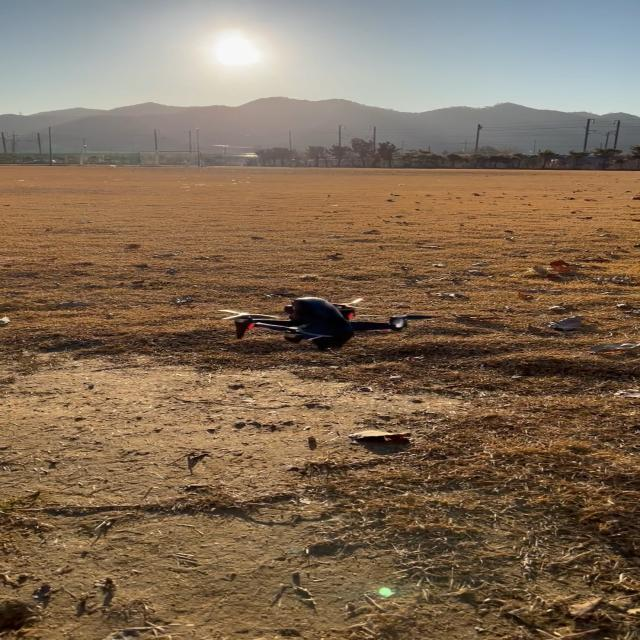drone: (216, 294, 436, 351)
